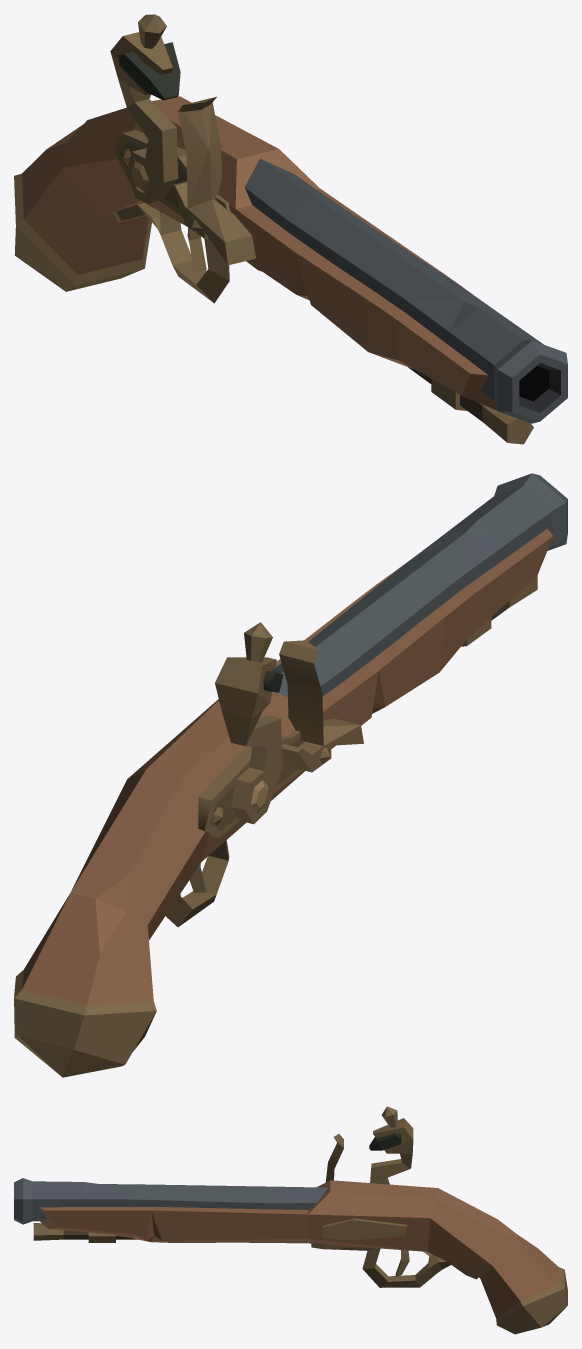
Rendered from SM_Wep_Pistol_01.fbx.
3 views of the same model, one above another, from view 1: azimuth 30°, elevation 25°; view 2: azimuth 150°, elevation 25°; view 3: azimuth 270°, elevation 25° (orthographic). The views are drawn at different scales.
Parts seen in each view (by area): view 1: SM_Wep_Pistol_01, SM_Wep_Pistol_Hammer_01, SM_Wep_Pistol_Frizzen_01, SM_Wep_Pistol_Trigger_01; view 2: SM_Wep_Pistol_01, SM_Wep_Pistol_Hammer_01, SM_Wep_Pistol_Frizzen_01; view 3: SM_Wep_Pistol_01, SM_Wep_Pistol_Hammer_01, SM_Wep_Pistol_Frizzen_01.
Part boxes in pixels (box(x1,y1,x2,y2)): SM_Wep_Pistol_01: box(14, 96, 567, 444); SM_Wep_Pistol_Hammer_01: box(110, 14, 180, 203); SM_Wep_Pistol_Frizzen_01: box(178, 96, 256, 265); SM_Wep_Pistol_Trigger_01: box(187, 227, 206, 273); SM_Wep_Pistol_01: box(14, 473, 567, 1077); SM_Wep_Pistol_Hammer_01: box(215, 622, 283, 824); SM_Wep_Pistol_Frizzen_01: box(279, 640, 363, 745); SM_Wep_Pistol_01: box(14, 1178, 567, 1334); SM_Wep_Pistol_Hammer_01: box(369, 1106, 413, 1184); SM_Wep_Pistol_Frizzen_01: box(325, 1134, 343, 1182).
Bounding box in the file's own units: 10.48 × 25.16 × 61.34.
